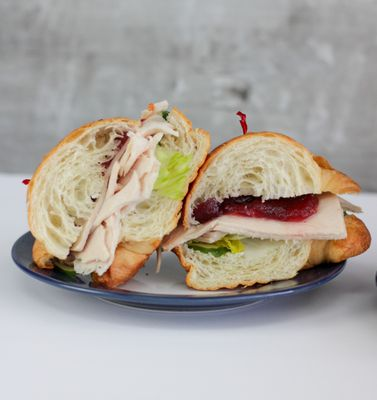soup: (26, 100, 212, 289), (158, 131, 371, 291)
